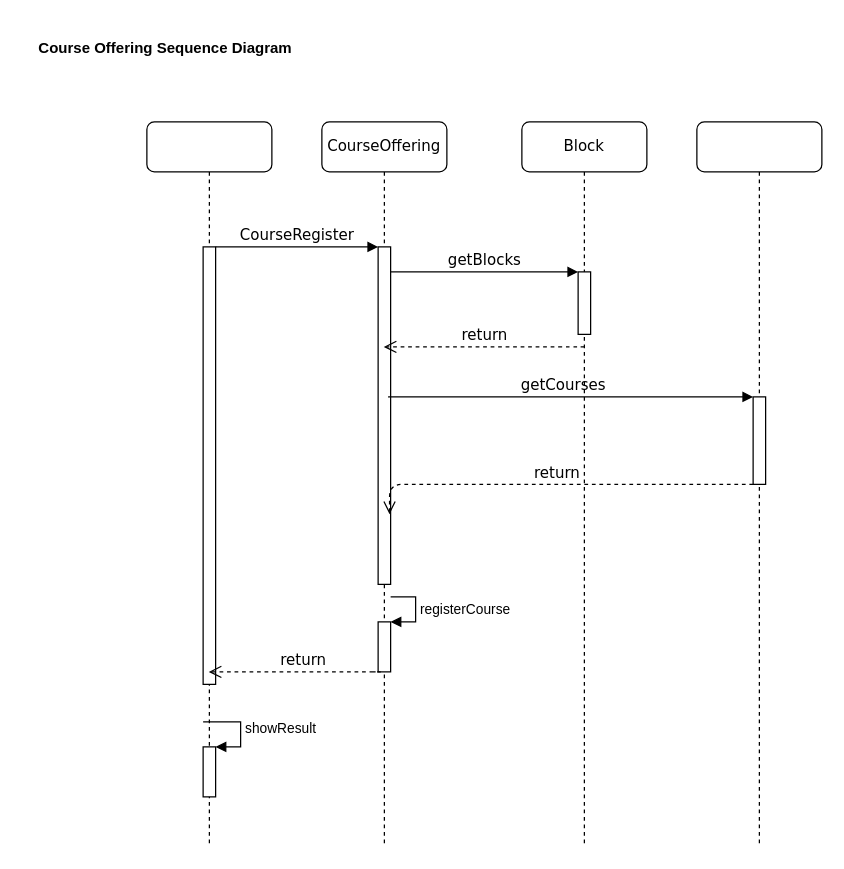
Some shapes in this 844 by 869 pixel diagram are drawn without their labels. The box of each missing label's shape, as (x1, y1, x2, y2) in pixels:
Courses: (696, 121, 822, 847)
Entry: (146, 121, 272, 847)
